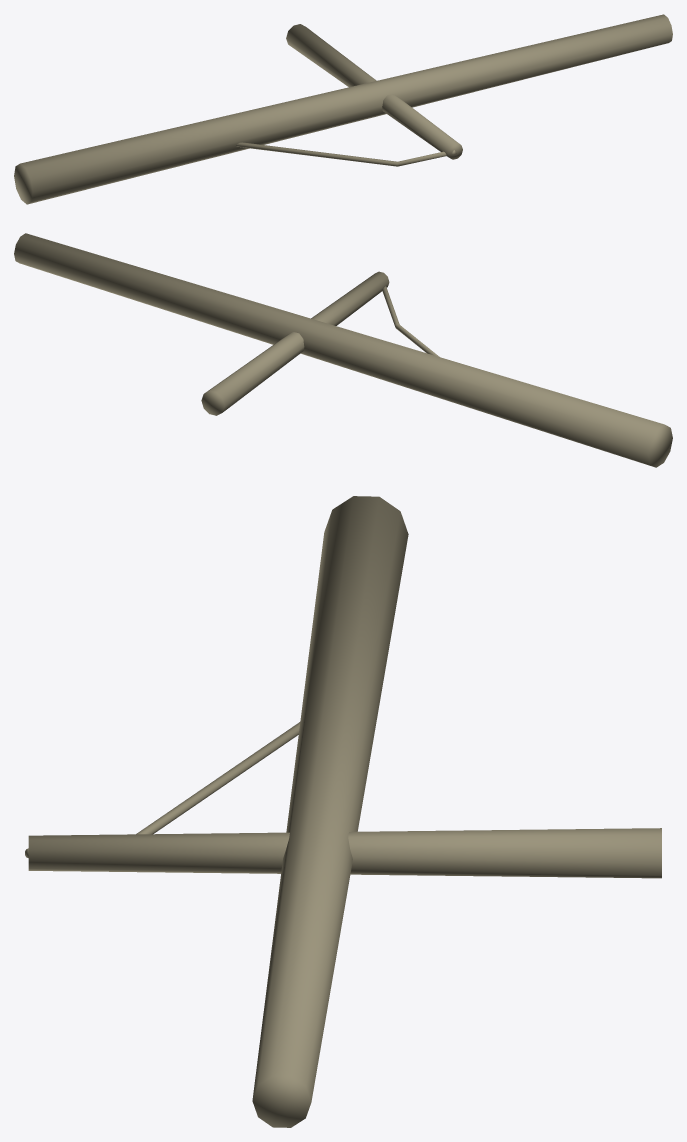
File: ob_mast.glb
3 renders of one model, top to bottom at view 1: azimuth 30°, elevation 25°; view 2: azimuth 150°, elevation 25°; view 3: azimuth 270°, elevation 25°, orthographic. The views are drawn at different scales.
Parts seen in each view (by area): view 1: broken-mast_0; view 2: broken-mast_0; view 3: broken-mast_0.
Part boxes in pixels (x1,y1,x2,y2): broken-mast_0: [14, 14, 672, 204]; broken-mast_0: [14, 233, 672, 467]; broken-mast_0: [25, 496, 661, 1127].
Size of the model in its own units: 3.41 by 0.2615 by 1.51.
